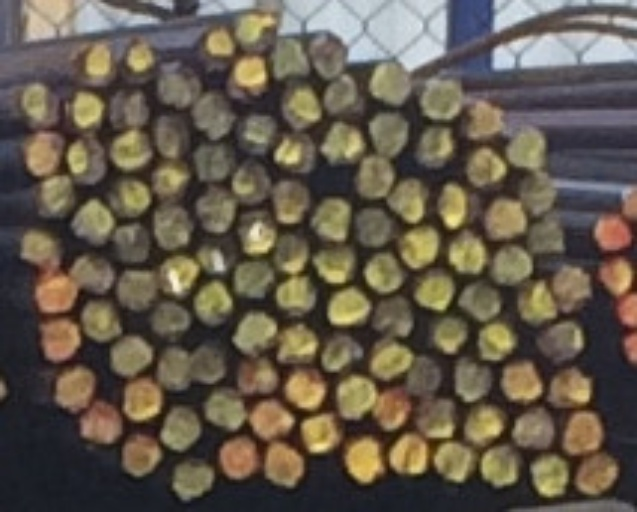dipstick: (549, 261, 593, 314), (190, 93, 237, 142), (507, 122, 551, 171), (233, 312, 280, 357), (387, 177, 432, 224), (482, 445, 526, 493), (155, 63, 200, 109), (71, 41, 115, 88), (35, 320, 83, 363), (515, 278, 558, 325), (320, 332, 365, 376), (307, 31, 348, 79), (193, 280, 233, 329), (237, 114, 280, 159), (322, 121, 364, 167), (465, 404, 511, 446), (500, 361, 542, 407), (264, 442, 305, 489), (153, 204, 194, 251), (235, 11, 282, 52), (539, 322, 586, 363), (369, 113, 409, 161), (514, 406, 554, 454), (170, 457, 213, 501), (108, 178, 151, 222), (217, 435, 260, 479), (459, 278, 502, 322), (189, 142, 234, 184), (370, 60, 412, 105), (354, 205, 396, 250), (397, 229, 442, 271), (70, 199, 111, 245), (110, 336, 153, 379), (578, 453, 621, 496), (22, 132, 64, 176), (203, 386, 245, 430), (415, 398, 460, 439), (163, 404, 200, 453), (270, 179, 312, 222), (413, 127, 455, 170), (54, 366, 93, 412), (344, 436, 383, 482), (548, 367, 594, 406), (81, 401, 123, 443), (280, 85, 322, 127), (115, 270, 156, 313), (251, 400, 294, 441), (231, 160, 272, 203), (283, 368, 324, 411), (434, 442, 478, 482), (237, 210, 276, 255), (564, 409, 603, 454), (121, 37, 158, 84), (109, 130, 151, 171), (368, 341, 410, 382), (421, 77, 463, 118), (21, 84, 61, 127), (36, 271, 76, 314), (302, 412, 342, 455), (156, 257, 200, 296), (153, 117, 191, 162), (197, 186, 234, 232), (338, 375, 375, 421), (466, 148, 507, 189), (71, 251, 113, 291), (274, 274, 314, 316), (354, 157, 394, 199), (364, 252, 404, 294), (519, 174, 561, 214), (275, 136, 318, 175), (455, 359, 494, 402), (529, 455, 568, 498), (326, 288, 370, 326), (314, 244, 358, 282), (67, 139, 104, 184), (198, 27, 235, 72), (313, 199, 350, 244), (272, 40, 312, 81), (483, 199, 525, 238), (124, 380, 162, 423), (372, 298, 415, 336), (447, 232, 485, 275), (277, 323, 318, 362), (464, 98, 503, 139), (527, 216, 566, 257), (492, 249, 534, 287), (437, 184, 471, 230), (197, 233, 237, 272), (113, 224, 151, 265), (321, 75, 357, 118), (80, 300, 119, 339), (239, 358, 278, 397), (152, 303, 190, 343), (269, 232, 307, 272), (412, 271, 452, 309), (21, 231, 62, 268), (389, 433, 425, 475), (374, 389, 409, 432), (406, 353, 441, 396), (123, 437, 162, 475), (153, 165, 192, 203), (38, 176, 73, 218), (231, 57, 268, 96), (592, 214, 630, 251), (70, 92, 105, 132), (478, 324, 518, 359), (156, 347, 190, 387), (111, 93, 148, 128), (232, 265, 273, 296), (597, 258, 631, 295), (436, 316, 466, 355), (191, 347, 222, 382)
